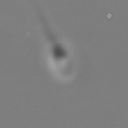normal: (24, 1, 60, 43)
